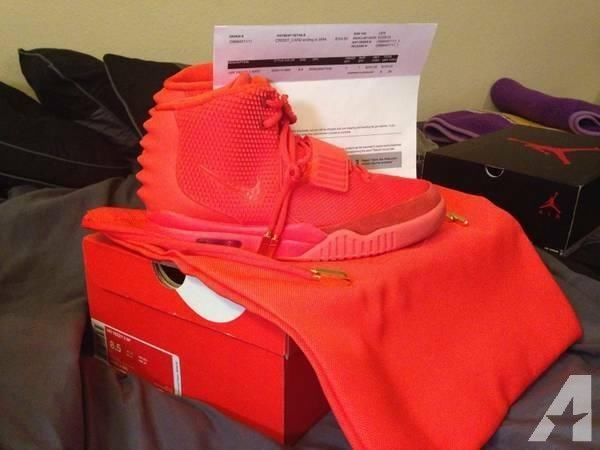Yeezy Red October: (120, 58, 454, 266)
